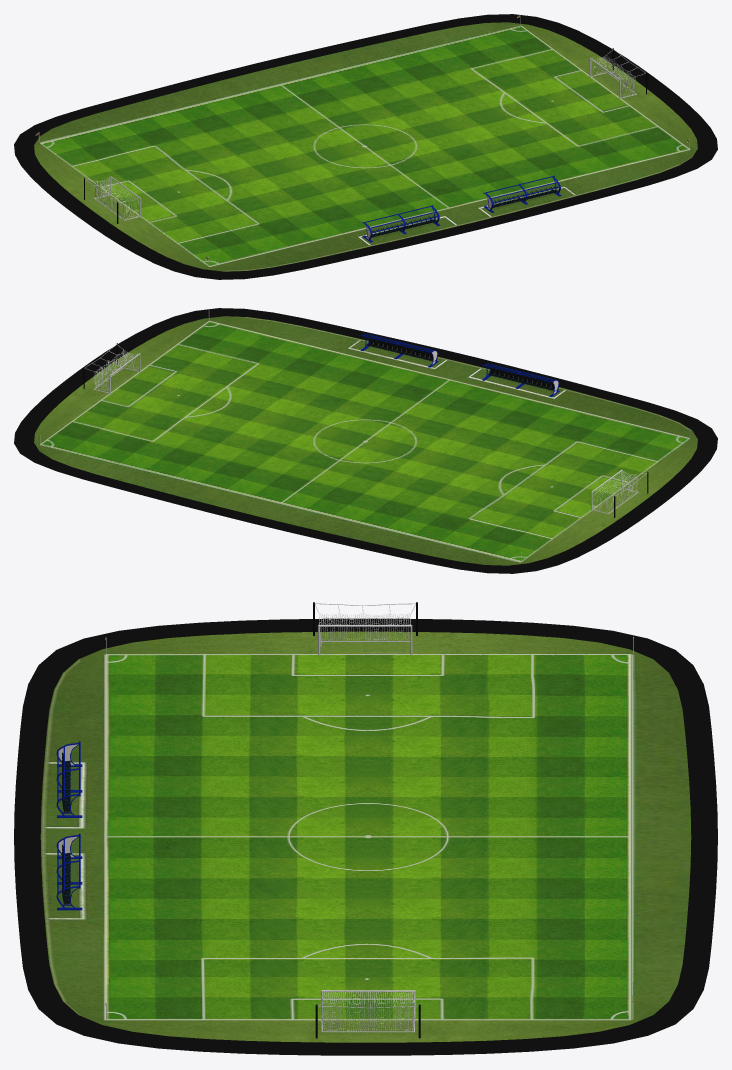
File: Pitch.gltf
3 views of the same model, one above another, from view 1: azimuth 30°, elevation 25°; view 2: azimuth 150°, elevation 25°; view 3: azimuth 270°, elevation 25° (orthographic). The views are drawn at different scales.
Visible parts, largest first — view 1: Circle-kich-thuoc-san-bong-da.003, Circle-SAN.002, cabin_2, khungthanh1_7, khungthanh_6; view 2: Circle-kich-thuoc-san-bong-da.003, Circle-SAN.002, cabin_2, khungthanh1_7, khungthanh_6; view 3: Circle-kich-thuoc-san-bong-da.003, Circle-SAN.002, khungthanh_6, cabin_2, khungthanh1_7.
Part boxes in pixels (x1,y1,x2,y2): Circle-kich-thuoc-san-bong-da.003: (34, 22, 697, 271); Circle-SAN.002: (14, 14, 717, 279); cabin_2: (362, 175, 561, 242); khungthanh1_7: (84, 176, 141, 223); khungthanh_6: (589, 48, 646, 98); Circle-kich-thuoc-san-bong-da.003: (34, 316, 697, 565); Circle-SAN.002: (14, 308, 717, 573); cabin_2: (360, 334, 559, 397); khungthanh1_7: (591, 469, 648, 517); khungthanh_6: (83, 343, 140, 393); Circle-kich-thuoc-san-bong-da.003: (40, 631, 691, 1042); Circle-SAN.002: (14, 618, 717, 1055); khungthanh_6: (315, 990, 420, 1038); cabin_2: (56, 741, 82, 910); khungthanh1_7: (313, 602, 417, 654).
Bounding box in the file's own units: 127 × 4.55 × 86.65.
14 materials, 1 textured.
